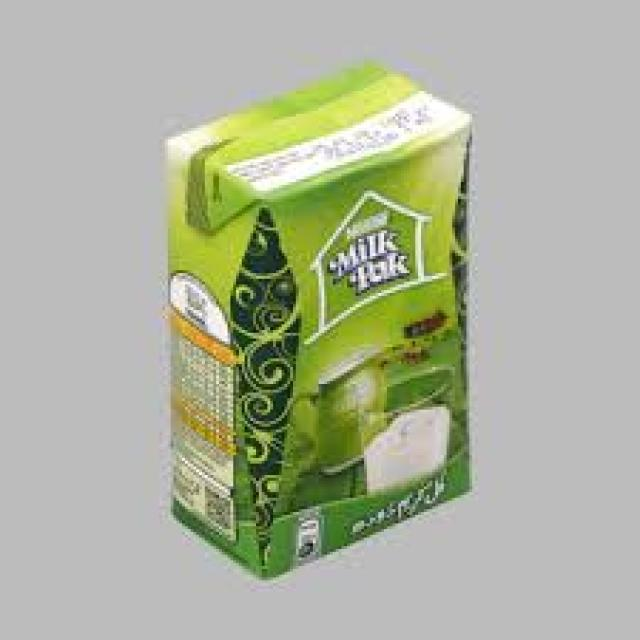non_white_jug: (118, 51, 482, 589)
